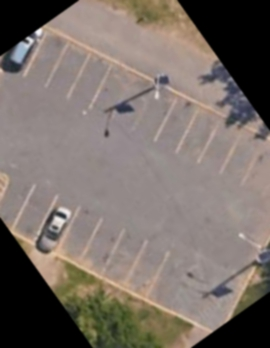parkingspot: (0, 24, 270, 207), (0, 165, 175, 304)
